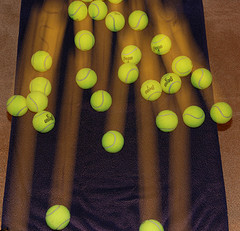tennis ball: (44, 204, 71, 230), (208, 101, 232, 124), (101, 130, 125, 153), (31, 110, 55, 133), (182, 105, 205, 128), (155, 109, 178, 132), (89, 89, 112, 112), (73, 29, 96, 52), (139, 79, 163, 101), (6, 94, 28, 117), (74, 67, 97, 89), (117, 61, 139, 84), (30, 49, 52, 71), (160, 72, 182, 94), (25, 91, 48, 112), (190, 67, 211, 89), (127, 9, 148, 31), (149, 34, 172, 54), (104, 11, 125, 32), (171, 55, 192, 75), (120, 44, 141, 64), (87, 1, 108, 21), (29, 77, 52, 95), (67, 1, 87, 20), (138, 219, 163, 230)
